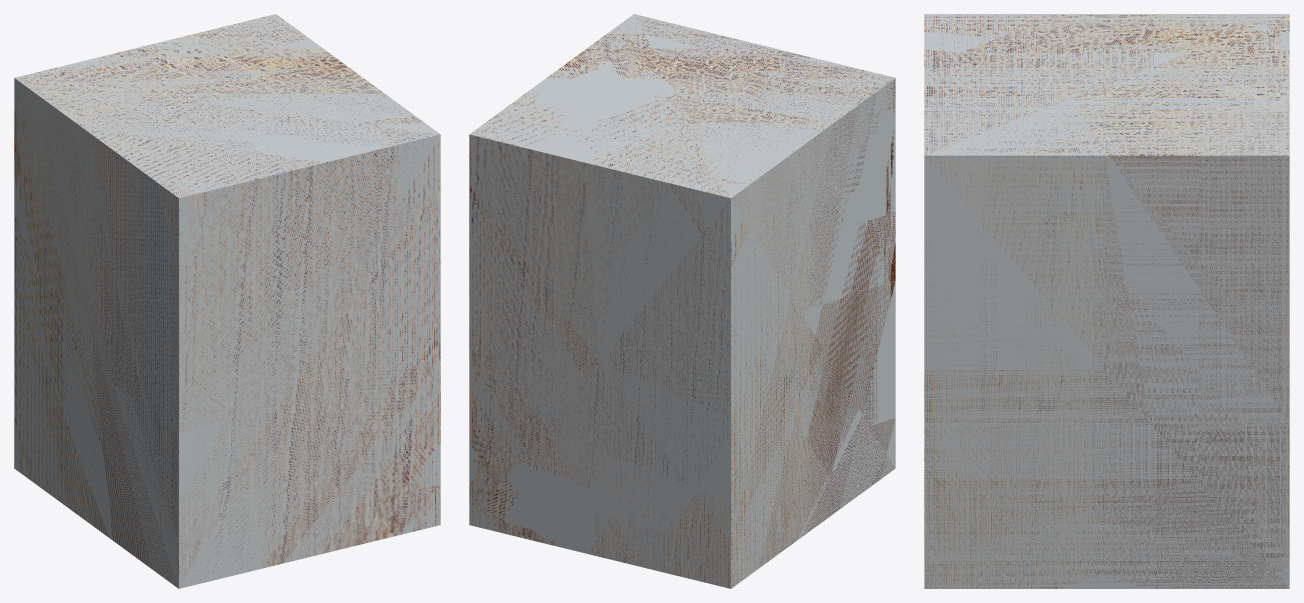
File: tualang.glb
The picture shows the model from 3 angles, left to right: view 1: azimuth 30°, elevation 25°; view 2: azimuth 150°, elevation 25°; view 3: azimuth 270°, elevation 25°; orthographic projection. The views are drawn at different scales.
Parts seen in each view (by area): view 1: BackSide, FrontSide; view 2: BackSide, FrontSide; view 3: BackSide, FrontSide.
Boxes of the visible parts, x1,y1,x2,y2 form: BackSide: (14,14,440,588); FrontSide: (14,14,440,587); BackSide: (469,14,895,588); FrontSide: (469,15,895,587); BackSide: (924,14,1289,588); FrontSide: (924,15,1289,588).
Size of the model in its own units: 1.63 by 2.33 by 1.78.
4 materials, 3 textured.
